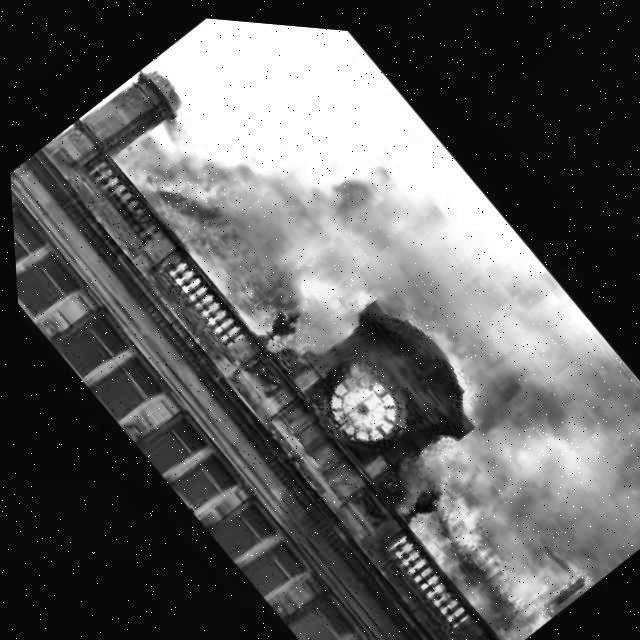Fire: (89, 6, 640, 640)
